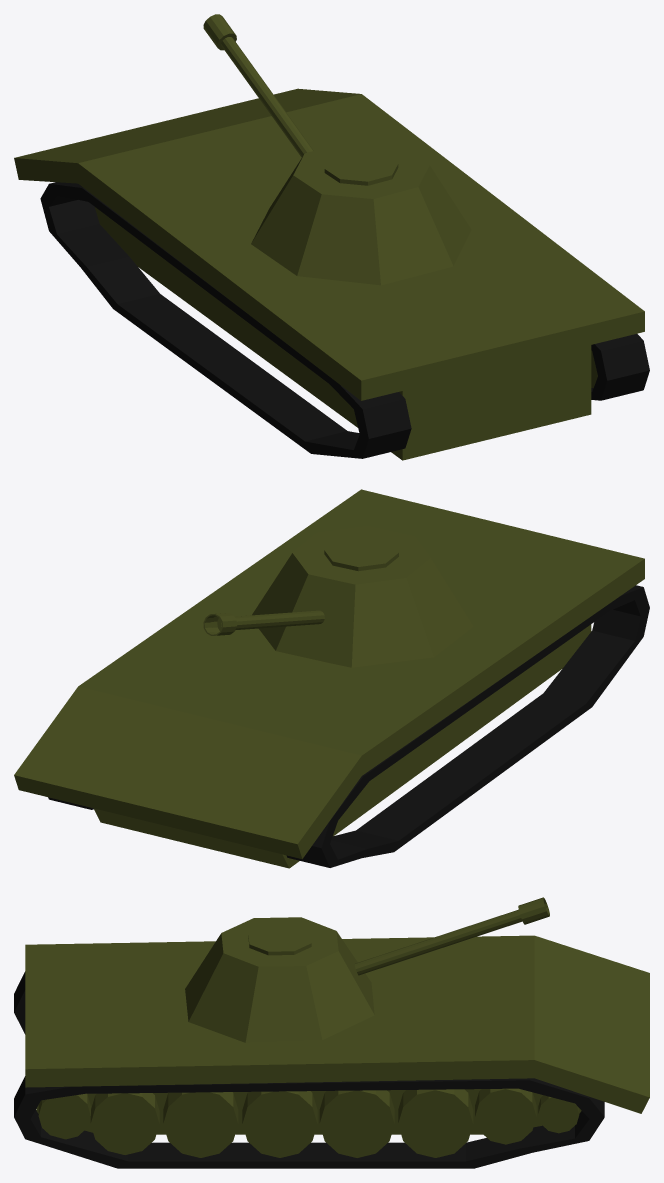
Rendered from Tank_01.glb.
3 renders of one model, top to bottom at view 1: azimuth 30°, elevation 25°; view 2: azimuth 150°, elevation 25°; view 3: azimuth 270°, elevation 25°, orthographic. The views are drawn at different scales.
Visible parts, largest first — view 1: SM_Tank; view 2: SM_Tank; view 3: SM_Tank.
Boxes of the visible parts, x1,y1,x2,y2 form: SM_Tank: [14, 14, 649, 460]; SM_Tank: [14, 489, 649, 868]; SM_Tank: [14, 897, 649, 1168].
Bounding box in the file's own units: 2.92 × 2.28 × 6.3.
